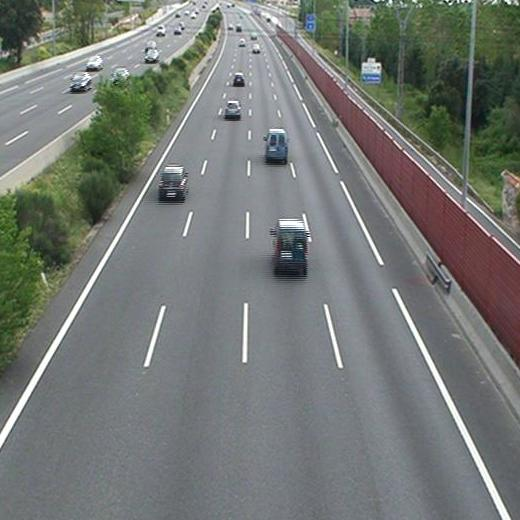car: (158, 167, 187, 197), (224, 100, 240, 115), (234, 74, 246, 84), (251, 43, 260, 53)
van: (273, 220, 307, 270), (265, 129, 288, 159)
